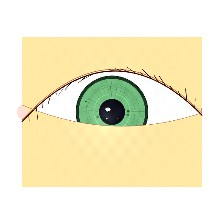pinguecula_lesion: (30, 101, 72, 134)
